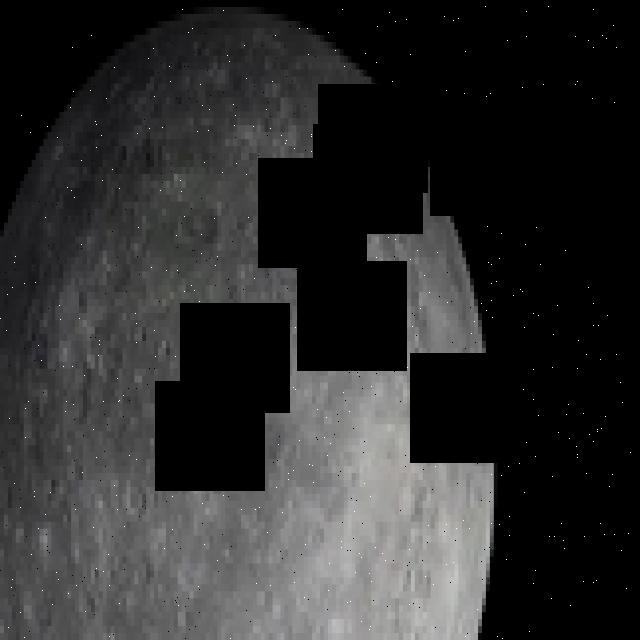Mercury: (0, 7, 494, 640)
